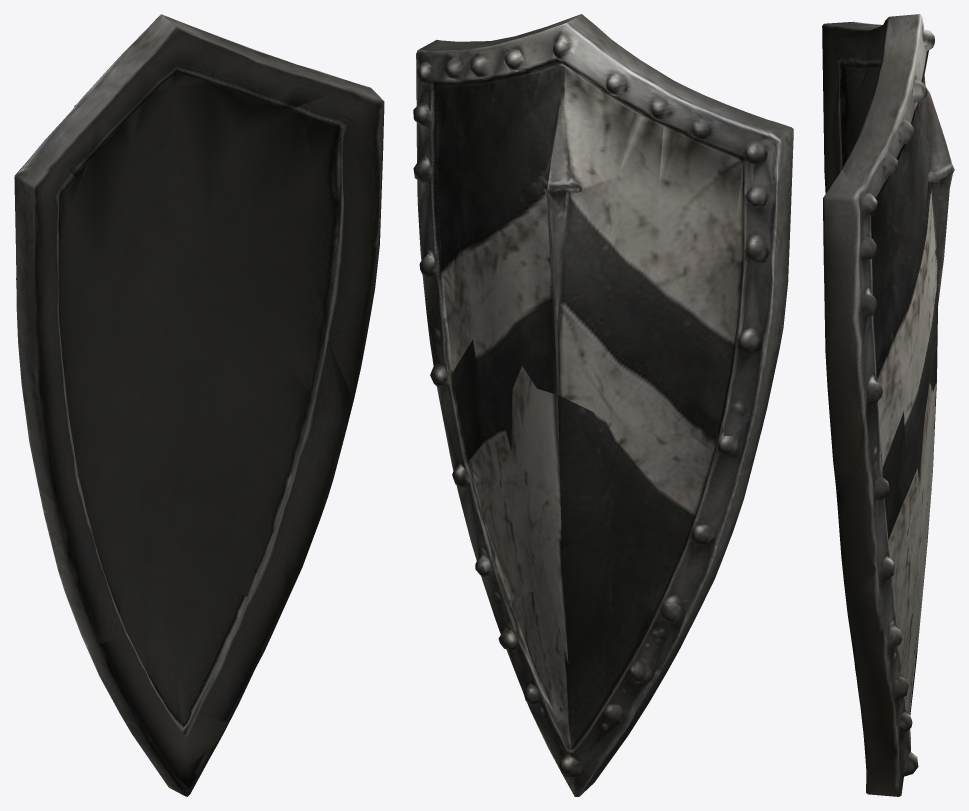
Rendered from kite_chevron.glb.
3 renders of one model, left to right at view 1: azimuth 30°, elevation 25°; view 2: azimuth 150°, elevation 25°; view 3: azimuth 270°, elevation 25°, orthographic. The views are drawn at different scales.
Visible parts, largest first — view 1: kite_chevron; view 2: kite_chevron; view 3: kite_chevron.
Part boxes in pixels (box(x1,y1,x2,y2)): kite_chevron: box(14, 14, 384, 796); kite_chevron: box(413, 14, 793, 796); kite_chevron: box(822, 14, 954, 796).
Size of the model in its own units: 0.4014 by 0.8214 by 0.1263.
1 material, 1 textured.
